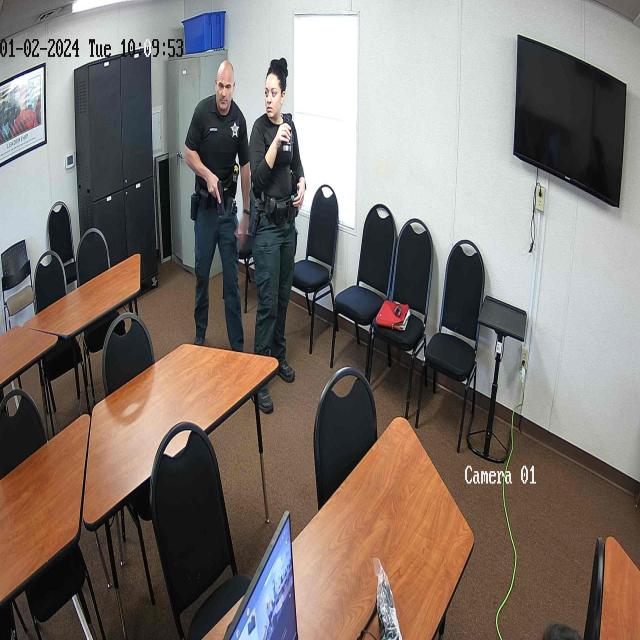weapon: (248, 195, 263, 240), (211, 179, 226, 218)
